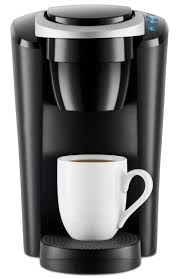cup: (50, 149, 155, 244)
